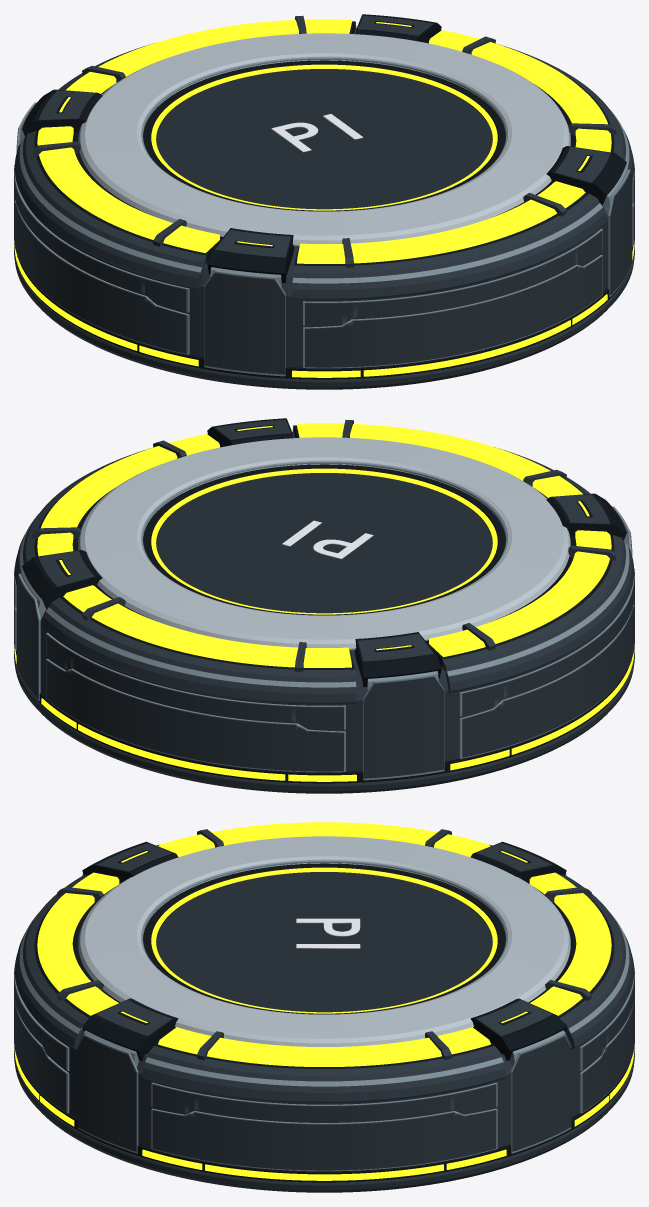
File: Grippy.fbx
3 views of the same model, one above another, from view 1: azimuth 30°, elevation 25°; view 2: azimuth 150°, elevation 25°; view 3: azimuth 270°, elevation 25° (orthographic).
Parts seen in each view (by area): view 1: SM_Puck_Grippy_P1_HighDetail; view 2: SM_Puck_Grippy_P1_HighDetail; view 3: SM_Puck_Grippy_P1_HighDetail.
Part boxes in pixels (<box>): SM_Puck_Grippy_P1_HighDetail: <box>14,14,634,389</box>; SM_Puck_Grippy_P1_HighDetail: <box>14,418,634,793</box>; SM_Puck_Grippy_P1_HighDetail: <box>14,822,634,1192</box>.
Bounding box in the file's own units: 90.3 × 90.3 × 20.9.
